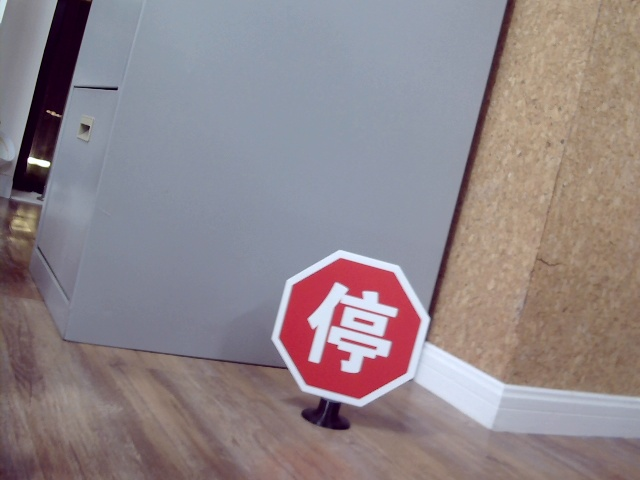stop: (307, 282, 396, 375)
